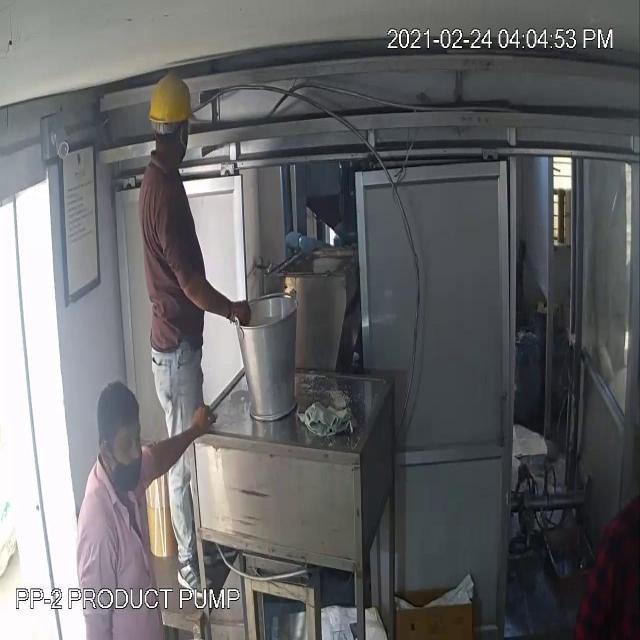helmet: (138, 57, 202, 149)
no-helmet: (85, 374, 148, 459)
